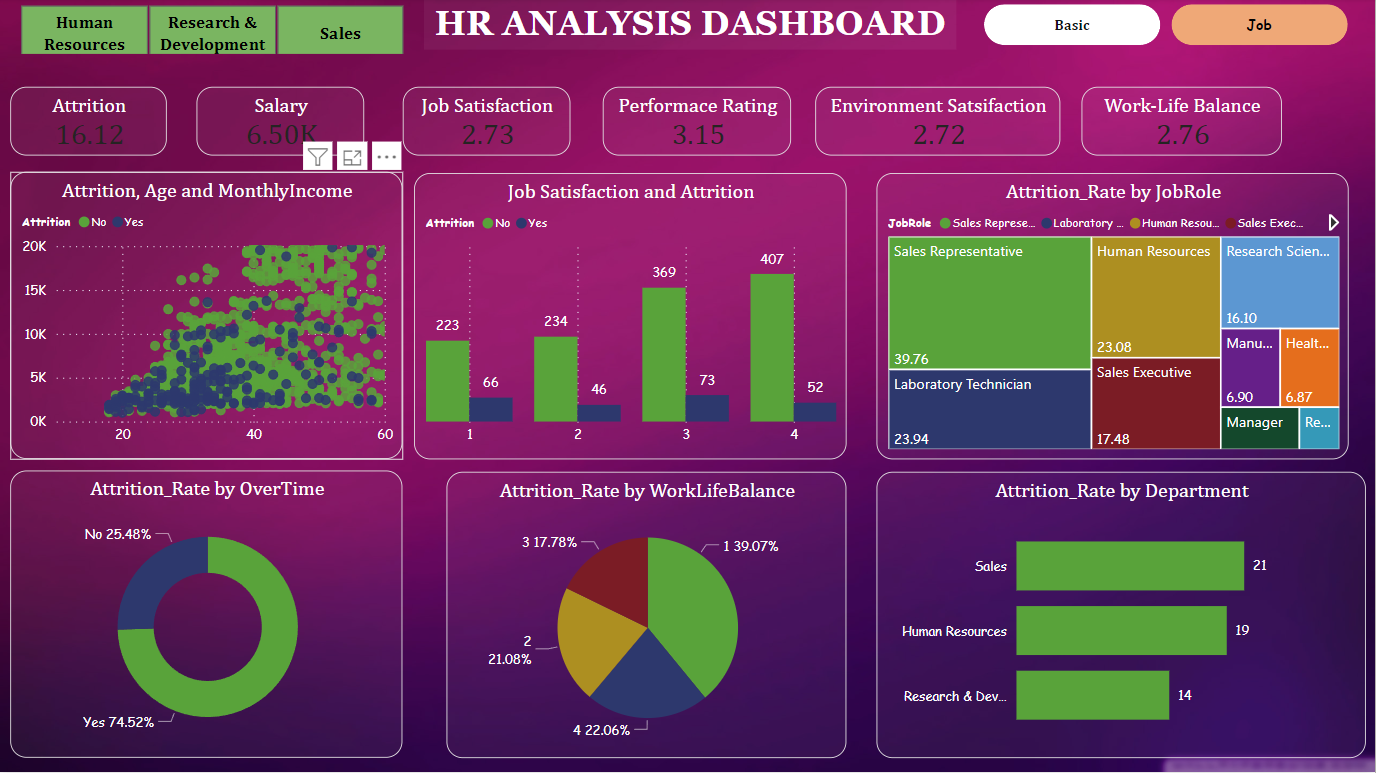

Layout of this report page (visuals, bound fields, positions):
{"tool":"powerbi","page":{"name":"Job","canvas":[1280,720],"ordinal":1},"visuals":[{"type":"textbox","box":[395.3,0,495.4,47.7],"z":0},{"type":"card","title":"Attrition","fields":{"Values":["HR_Employee_Attrition.Attrition_Rate"]},"box":[10.5,82.6,145.3,64],"z":1000},{"type":"card","title":"Salary","fields":{"Values":["HR_Employee_Attrition.Avg_Income"]},"box":[183.7,82.6,155.8,64],"z":2000},{"type":"card","title":"Job Satisfaction","fields":{"Values":["HR_Employee_Attrition.Avg_job_satisfaction"]},"box":[375.6,82.6,155.8,64],"z":3000},{"type":"card","title":"Performace Rating","fields":{"Values":["HR_Employee_Attrition.Avg_performace"]},"box":[561.6,82.6,175.6,64],"z":4000},{"type":"card","title":"Environment Satsifaction","fields":{"Values":["HR_Employee_Attrition.Avg_Environ"]},"box":[759.3,82.6,227.9,64],"z":5000},{"type":"card","title":"Work-Life Balance","fields":{"Values":["HR_Employee_Attrition.avg_worklifebalance"]},"box":[1007,82.6,186,64],"z":6000},{"type":"pageNavigator","box":[916.3,5.8,339.5,38.4],"z":7000},{"type":"scatterChart","fields":{"Y":["HR_Employee_Attrition.MonthlyIncome"],"X":["HR_Employee_Attrition.Age"],"Series":["HR_Employee_Attrition.Attrition"]},"box":[10.5,161.6,365.1,267.4],"z":8000},{"type":"clusteredColumnChart","title":"Job Satisfaction and  Attrition","fields":{"Series":["HR_Employee_Attrition.Attrition"],"Category":["HR_Employee_Attrition.JobSatisfaction"],"Y":["CountNonNull(HR_Employee_Attrition.JobSatisfaction)"]},"box":[386,162.8,402.3,266.3],"z":9000},{"type":"treemap","fields":{"Group":["HR_Employee_Attrition.JobRole"],"Values":["HR_Employee_Attrition.Attrition_Rate"]},"box":[816.3,162.8,439.5,266.3],"z":10000},{"type":"donutChart","fields":{"Y":["HR_Employee_Attrition.Attrition_Rate"],"Category":["HR_Employee_Attrition.OverTime"]},"box":[10,439,365,267],"z":11000},{"type":"pieChart","fields":{"Y":["HR_Employee_Attrition.Attrition_Rate"],"Category":["HR_Employee_Attrition.WorkLifeBalance"]},"box":[416.3,440.7,372.1,266.3],"z":12000},{"type":"clusteredBarChart","fields":{"Category":["HR_Employee_Attrition.Department"],"Y":["HR_Employee_Attrition.Attrition_Rate"]},"box":[816,441,455,266],"z":13000},{"type":"slicer","fields":{"Values":["HR_Employee_Attrition.Department"]},"box":[0,0,395.3,52.3],"z":14000}]}

Visuals, with their boxes in screenshot pixels (x1, y1, x2, y2), scaled from the page's 1280x720 canvas onto the 1376x773 screenshot:
textbox: [left=425, top=0, right=958, bottom=51]
"Attrition" card: [left=11, top=89, right=167, bottom=157]
"Salary" card: [left=197, top=89, right=365, bottom=157]
"Job Satisfaction" card: [left=404, top=89, right=571, bottom=157]
"Performace Rating" card: [left=604, top=89, right=792, bottom=157]
"Environment Satsifaction" card: [left=816, top=89, right=1061, bottom=157]
"Work-Life Balance" card: [left=1083, top=89, right=1282, bottom=157]
pageNavigator: [left=985, top=6, right=1350, bottom=47]
scatterChart - HR_Employee_Attrition.MonthlyIncome x HR_Employee_Attrition.Age: [left=11, top=173, right=404, bottom=461]
"Job Satisfaction and  Attrition" clusteredColumnChart: [left=415, top=175, right=847, bottom=461]
treemap - HR_Employee_Attrition.JobRole x HR_Employee_Attrition.Attrition_Rate: [left=878, top=175, right=1350, bottom=461]
donutChart - HR_Employee_Attrition.Attrition_Rate x HR_Employee_Attrition.OverTime: [left=11, top=471, right=403, bottom=758]
pieChart - HR_Employee_Attrition.Attrition_Rate x HR_Employee_Attrition.WorkLifeBalance: [left=448, top=473, right=848, bottom=759]
clusteredBarChart - HR_Employee_Attrition.Department x HR_Employee_Attrition.Attrition_Rate: [left=877, top=473, right=1366, bottom=759]
slicer - HR_Employee_Attrition.Department: [left=0, top=0, right=425, bottom=56]
